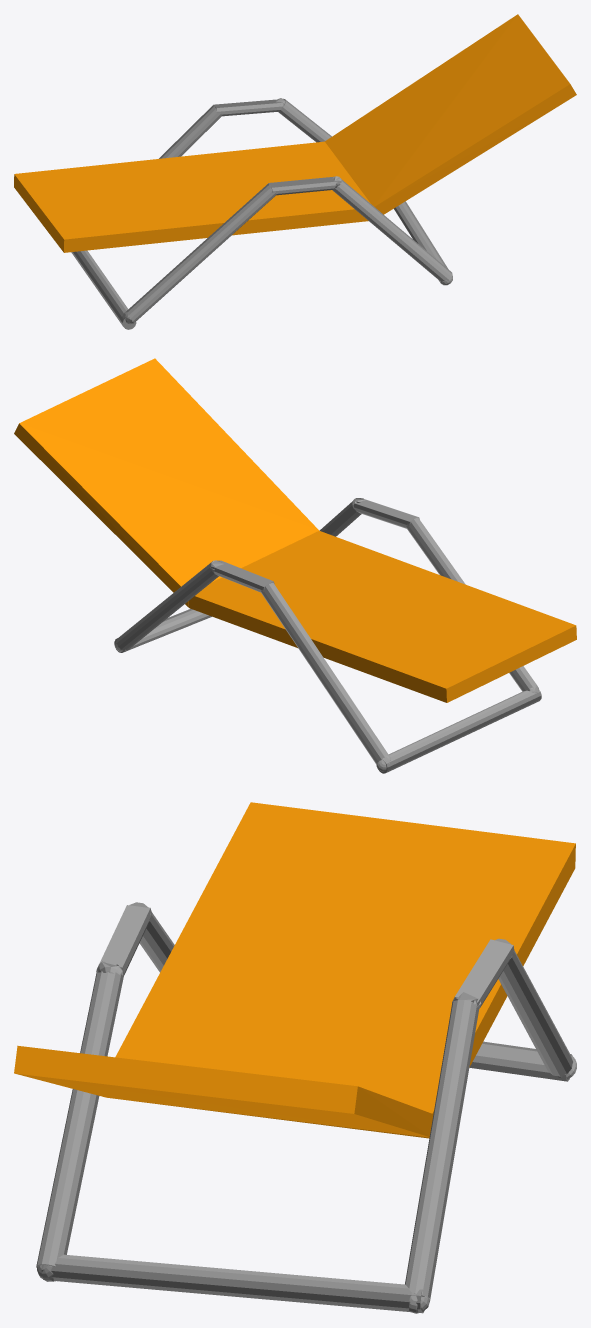
File: Chaise_Lounge.glb
3 renders of one model, top to bottom at view 1: azimuth 30°, elevation 25°; view 2: azimuth 150°, elevation 25°; view 3: azimuth 270°, elevation 25°, orthographic. The views are drawn at different scales.
Visible parts, largest first — view 1: group294144946; view 2: group294144946; view 3: group294144946.
Boxes of the visible parts, bbox=[...] form: group294144946: bbox=[14, 14, 576, 329]; group294144946: bbox=[14, 358, 576, 773]; group294144946: bbox=[14, 802, 576, 1313].
Size of the model in its own units: 0.1875 by 0.0695 by 0.0973.
